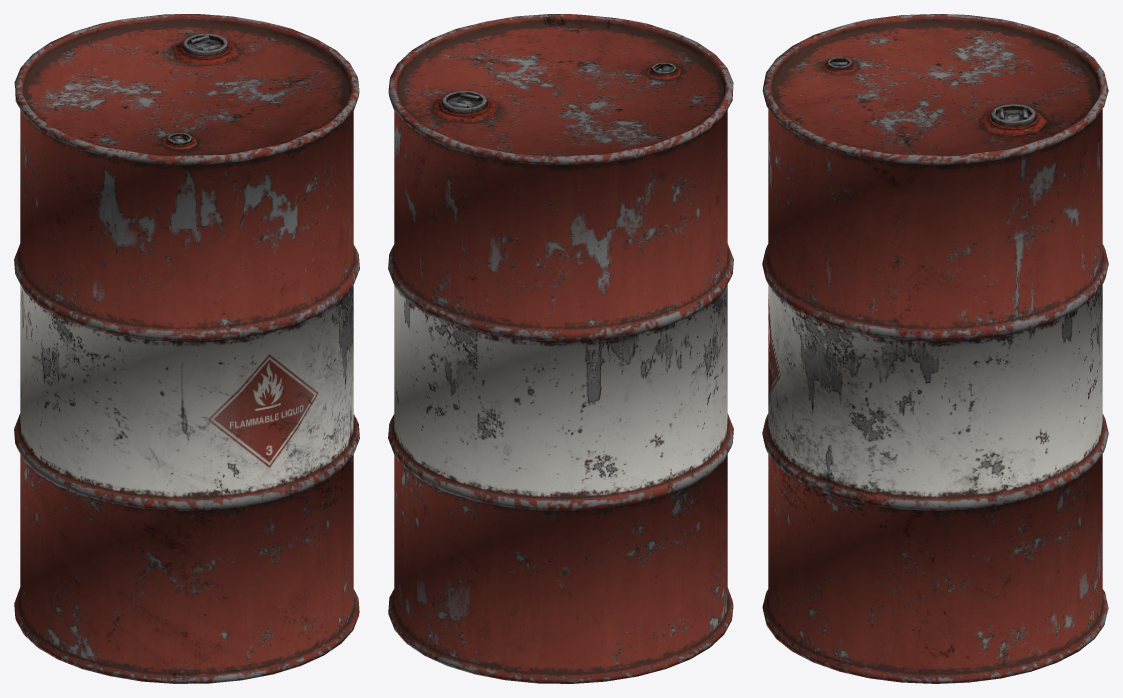
Rendered from ThungSatDo.fbx.
3 views of the same model, side by side, from view 1: azimuth 30°, elevation 25°; view 2: azimuth 150°, elevation 25°; view 3: azimuth 270°, elevation 25° (orthographic).
Parts seen in each view (by area): view 1: Barrel3_low; view 2: Barrel3_low; view 3: Barrel3_low.
Boxes of the visible parts, x1,y1,x2,y2 form: Barrel3_low: [14, 14, 359, 683]; Barrel3_low: [388, 14, 733, 683]; Barrel3_low: [762, 14, 1108, 683].
Size of what is drawn, in the model's own units: 63.85 by 107 by 63.85.
